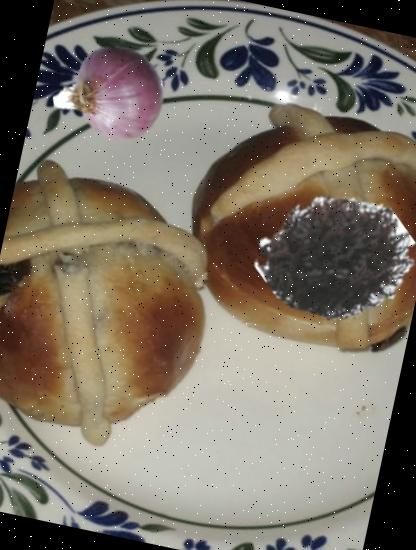Onion: (42, 29, 174, 162)
Rambutan: (251, 172, 416, 345)
